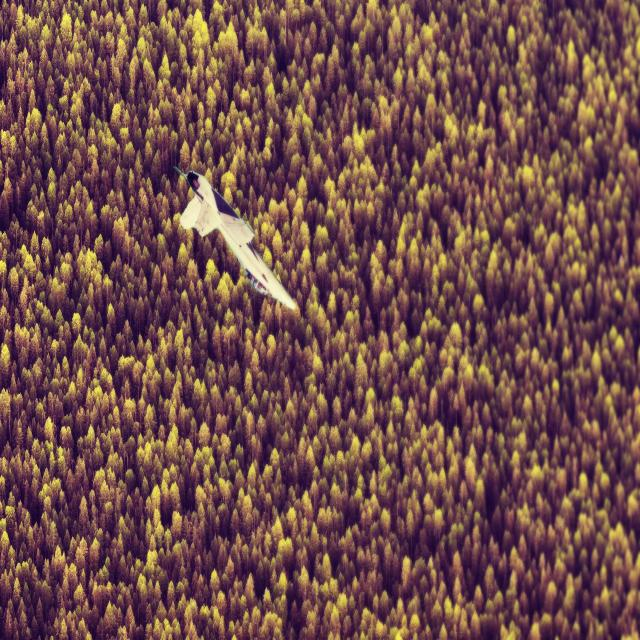airplane: (172, 164, 298, 313)
